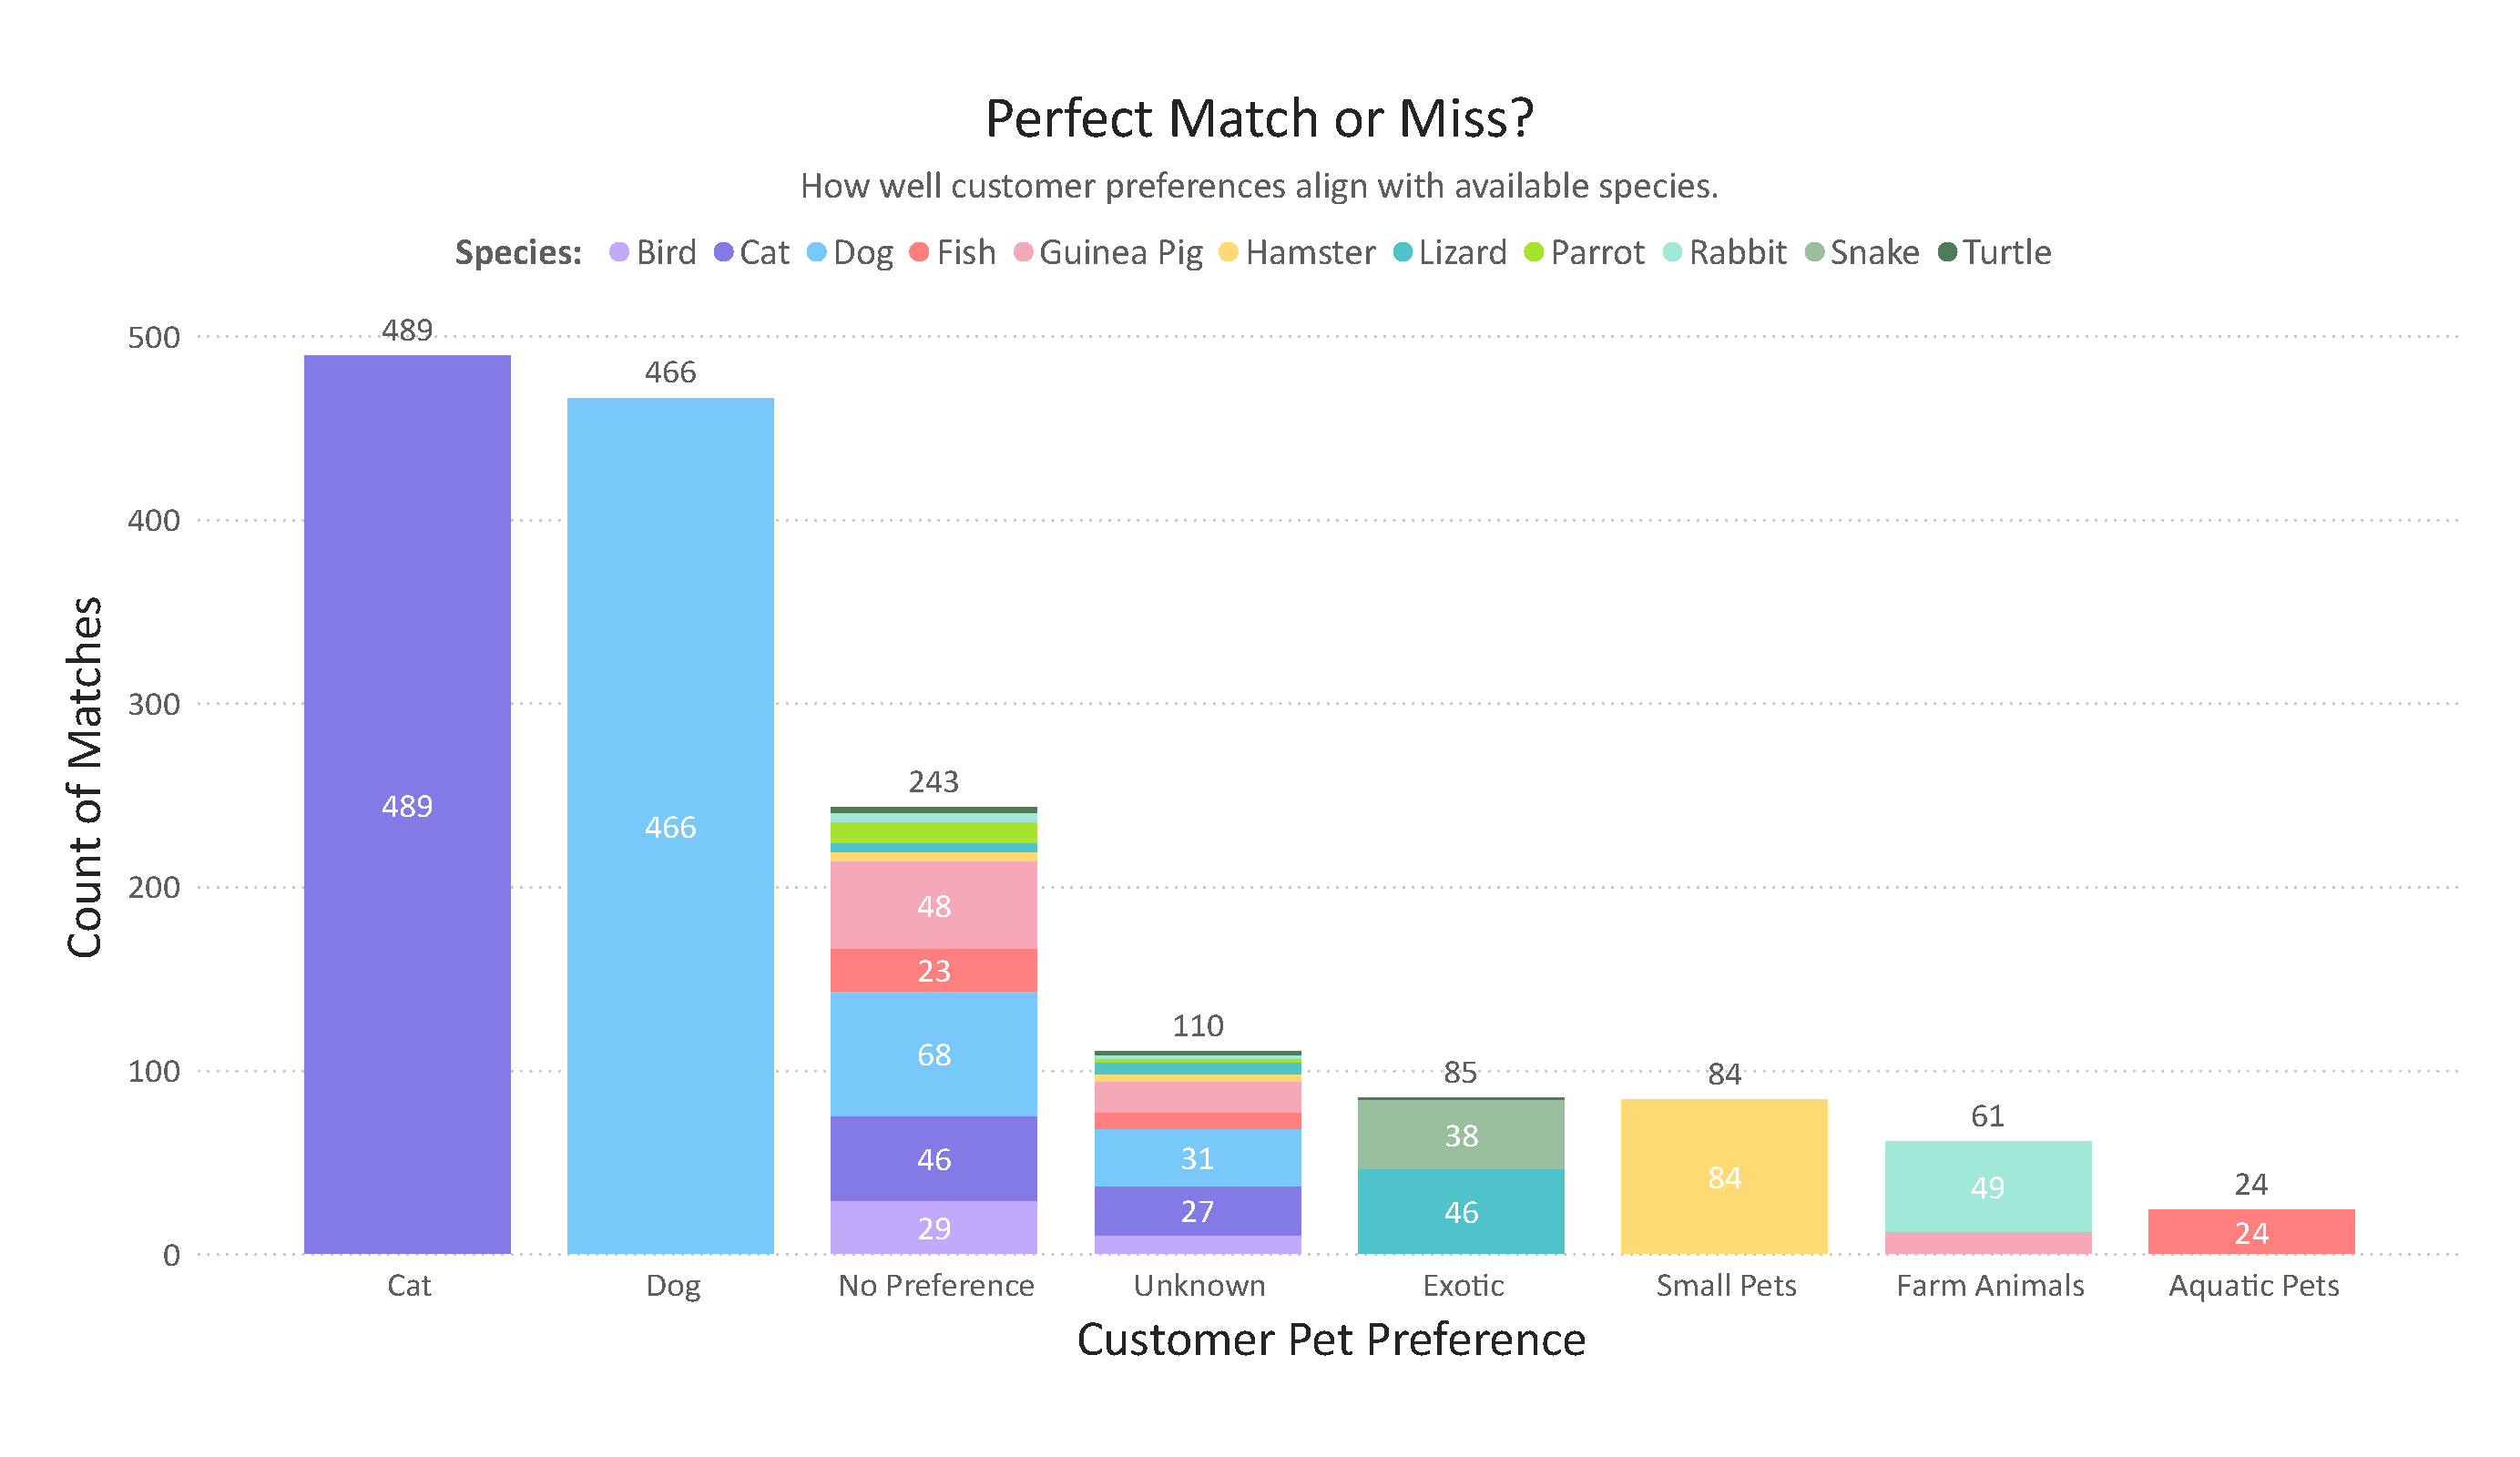

What the dashboard file says about the page in this screenshot:
{"tool":"powerbi","page":{"name":"2.2","canvas":[1280,720],"ordinal":10},"visuals":[{"type":"columnChart","title":"Perfect Match or Miss?","fields":{"Category":["2 2_customer_preference_alignment.pet_preferences"],"Series":["2 2_customer_preference_alignment.species_name"],"Y":["Sum(2 2_customer_preference_alignment.preference_match_count)"]},"box":[0,17.8,1280.3,685.2],"z":0}]}

Visuals, with their boxes on the page's 1280x720 design canvas (x1, y1, x2, y2). These are canvas units, not pixel positions in the 2520x1457 screenshot, which may show the page scaled, cropped or inside an application window:
"Perfect Match or Miss?" columnChart: region(0, 18, 1280, 703)
